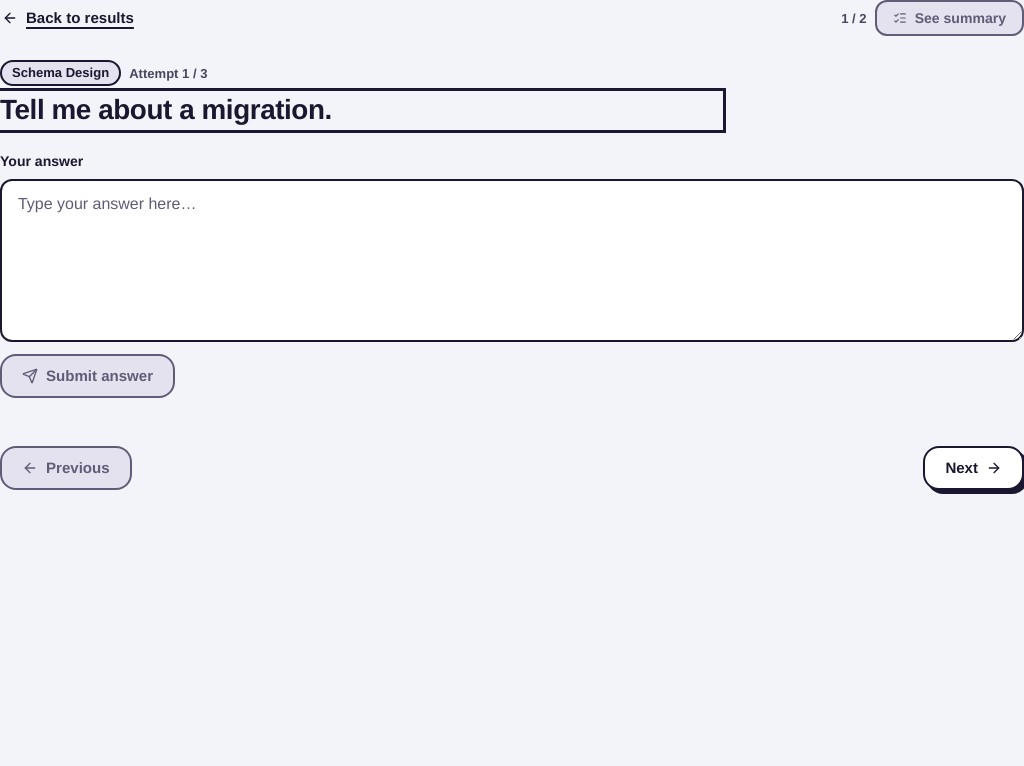
Test: InterviewPracticeMode › shows feedback as lists after a submit and counts the attempt
In the text box labelled "Your answer": (512, 260) x1=0 y1=179 x2=1023 y2=342, type "I led it."
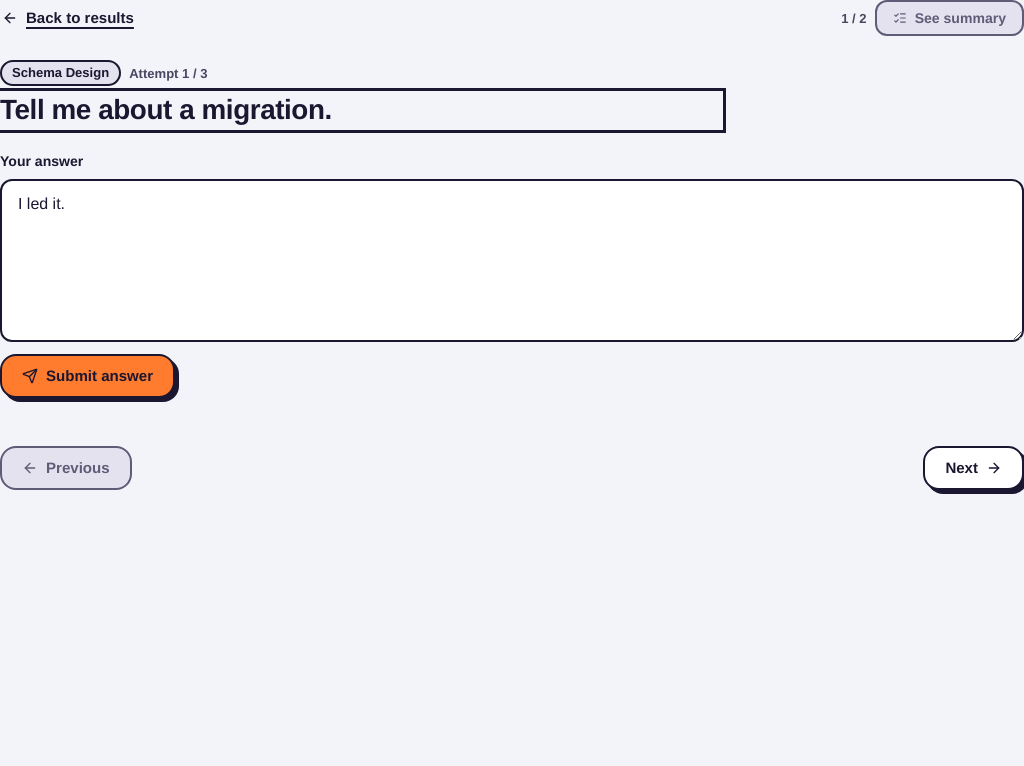
Click the button "Submit answer": (88, 376) x1=0 y1=354 x2=175 y2=398
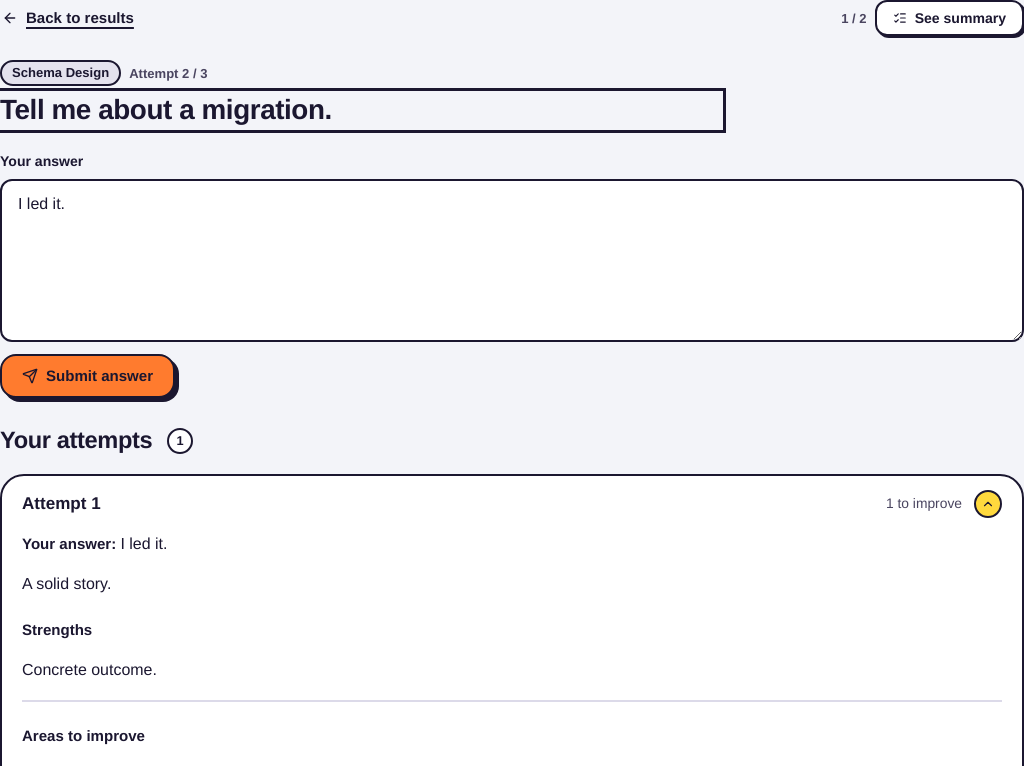
Expected: the text "A solid story." is shown, x1=22 y1=574 x2=111 y2=594
Expected: the heading "Strengths" is shown, x1=22 y1=619 x2=92 y2=641
Expected: the text "Attempt 2 / 3" is shown, x1=129 y1=66 x2=208 y2=80
